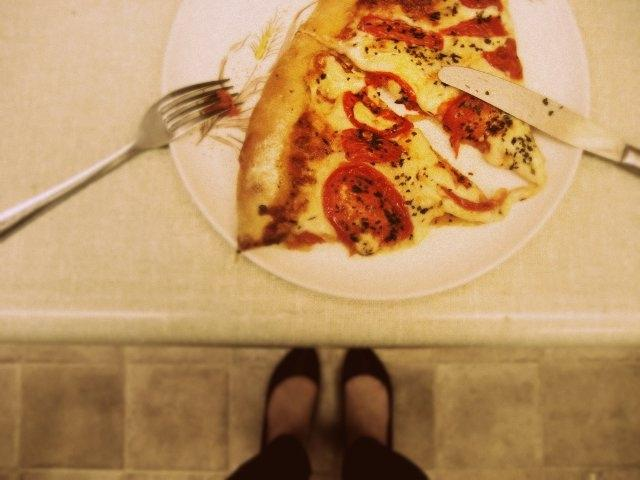tomato: (322, 161, 413, 257), (441, 92, 506, 160), (343, 90, 412, 138), (357, 14, 443, 50), (340, 128, 404, 163), (482, 38, 523, 79), (442, 16, 509, 38), (203, 90, 240, 114)
